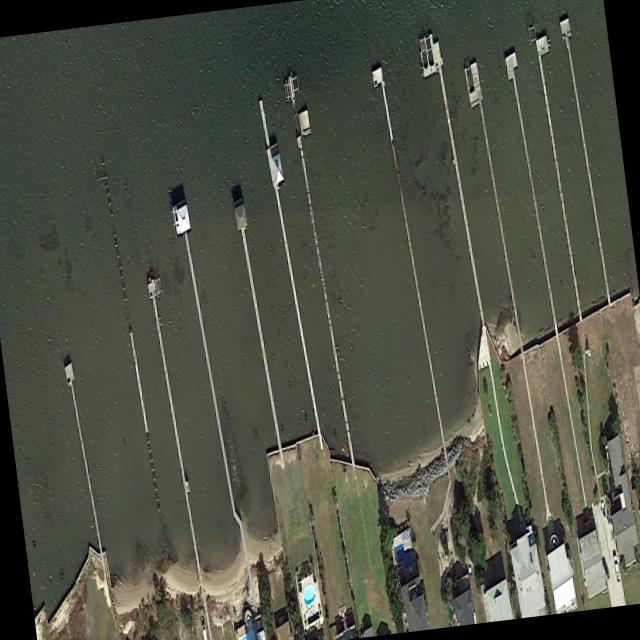ship: (172, 204, 180, 235), (201, 624, 207, 640)
small-vehicle: (613, 556, 621, 584), (602, 557, 610, 581), (600, 499, 607, 523)
